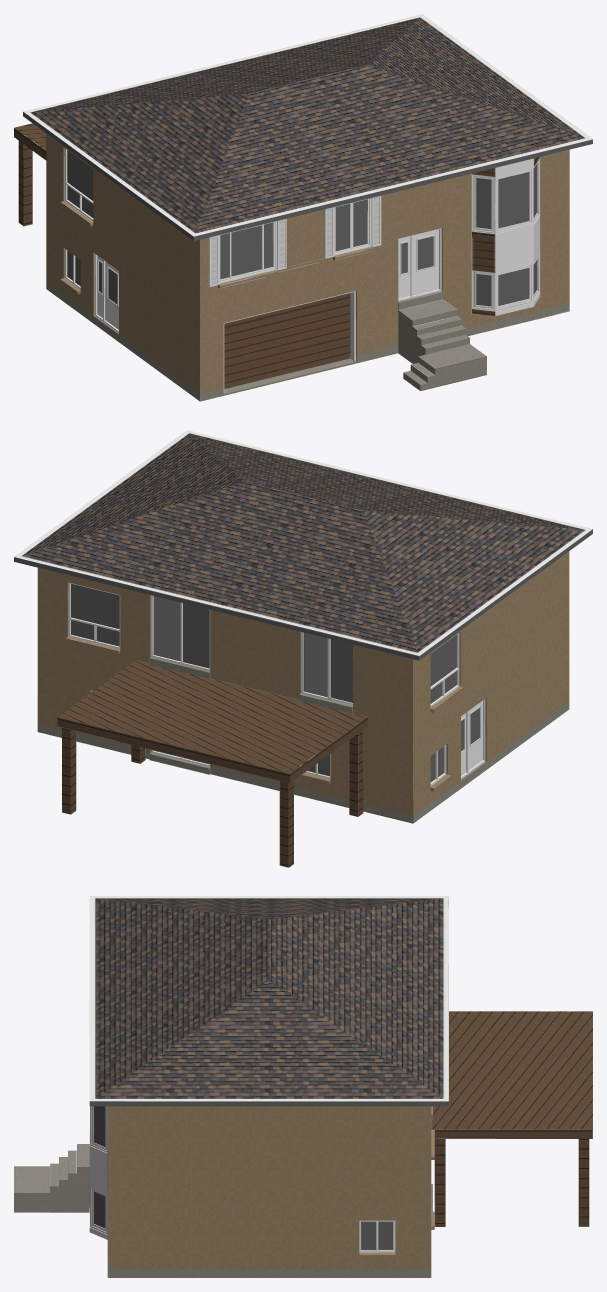
Rendered from Residential House 11.fbx.
3 views of the same model, one above another, from view 1: azimuth 30°, elevation 25°; view 2: azimuth 150°, elevation 25°; view 3: azimuth 270°, elevation 25° (orthographic). The views are drawn at different scales.
Visible parts, largest first — view 1: Residential_House_11_LOD0; view 2: Residential_House_11_LOD0; view 3: Residential_House_11_LOD0.
Part boxes in pixels (x1,y1,x2,y2): Residential_House_11_LOD0: [14, 14, 592, 401]; Residential_House_11_LOD0: [14, 430, 592, 867]; Residential_House_11_LOD0: [14, 896, 592, 1277].
Size of what is drawn, in the model's own units: 1350 by 715 by 1610.
1 material, 1 textured.
